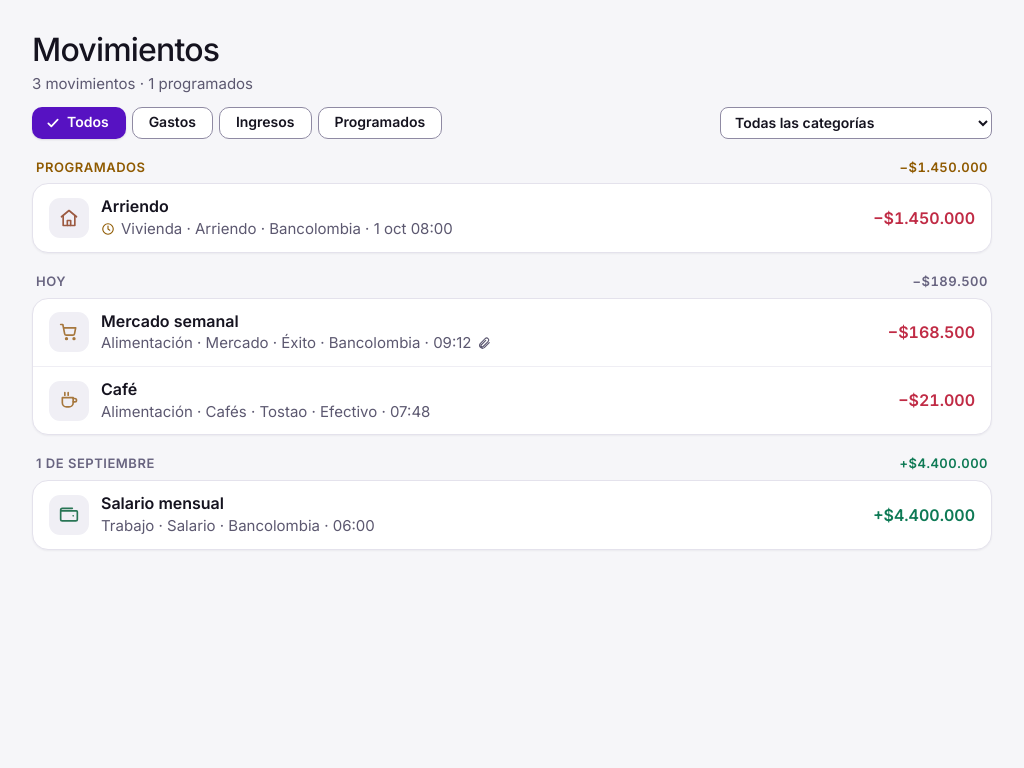
Test: MovimientosPage › deletes a small movement at once and brings it back with Deshacer
Click the text "Café".
click(119, 389)  # box [101,379,137,399]
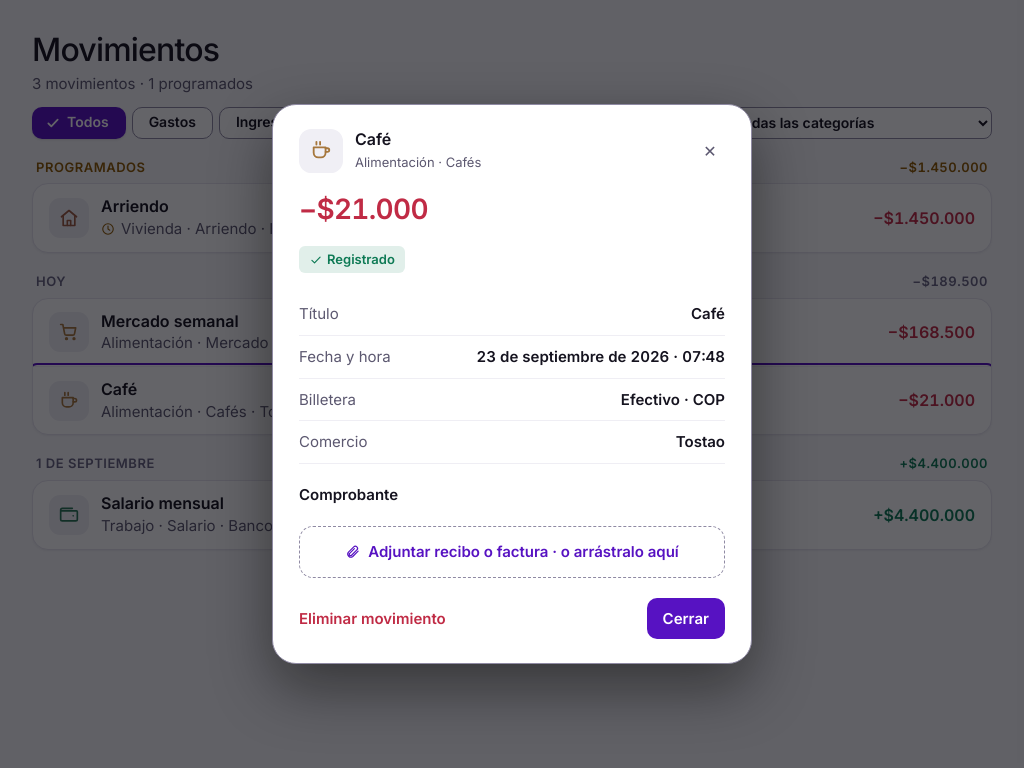
Expected: the text "23 de septiembre de 2026 · 07:48" is shown, [477,346,725,368]
Expected: the text "Efectivo · COP" is shown, [621,389,725,410]
Expected: the button "Adjuntar recibo o factura · o arrástralo aquí" is shown, [299,526,725,578]
Click the button "Eliminar movimiento".
click(372, 618)  # box [299,602,446,634]
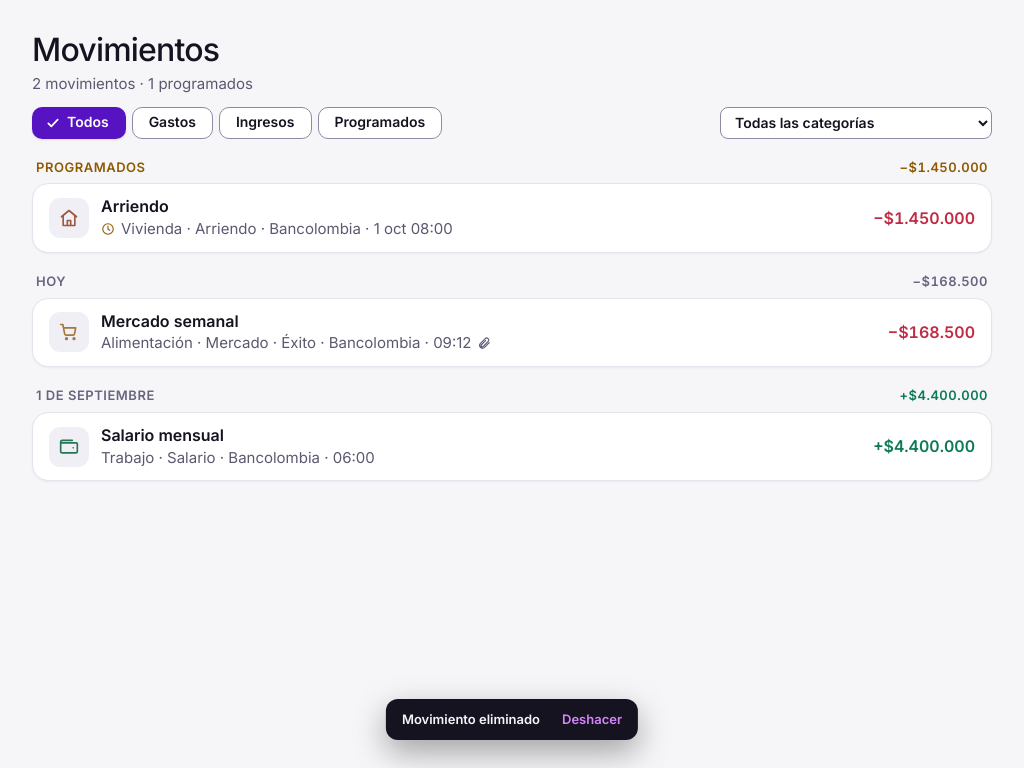
Expected: the button "Café" is gone
Expected: the message shows "Movimiento eliminado", [402,711,540,727]
Click the button "Deshacer".
click(592, 720)  # box [554,704,630,736]
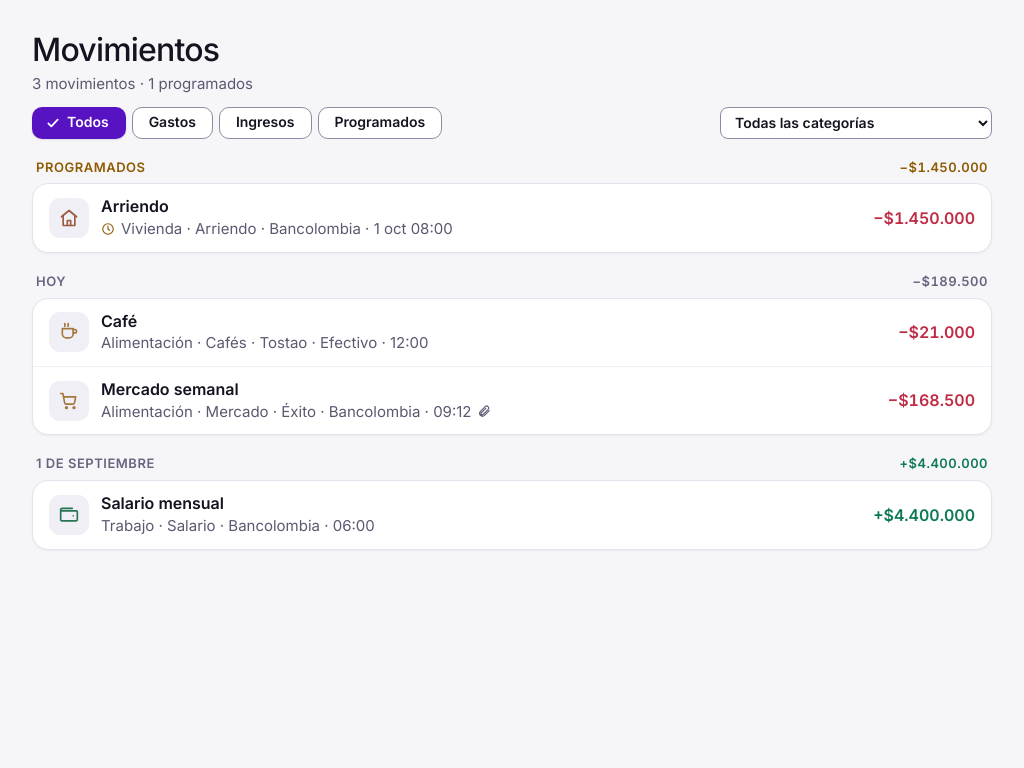
Expected: the text "Café" is shown, [101,311,137,331]
